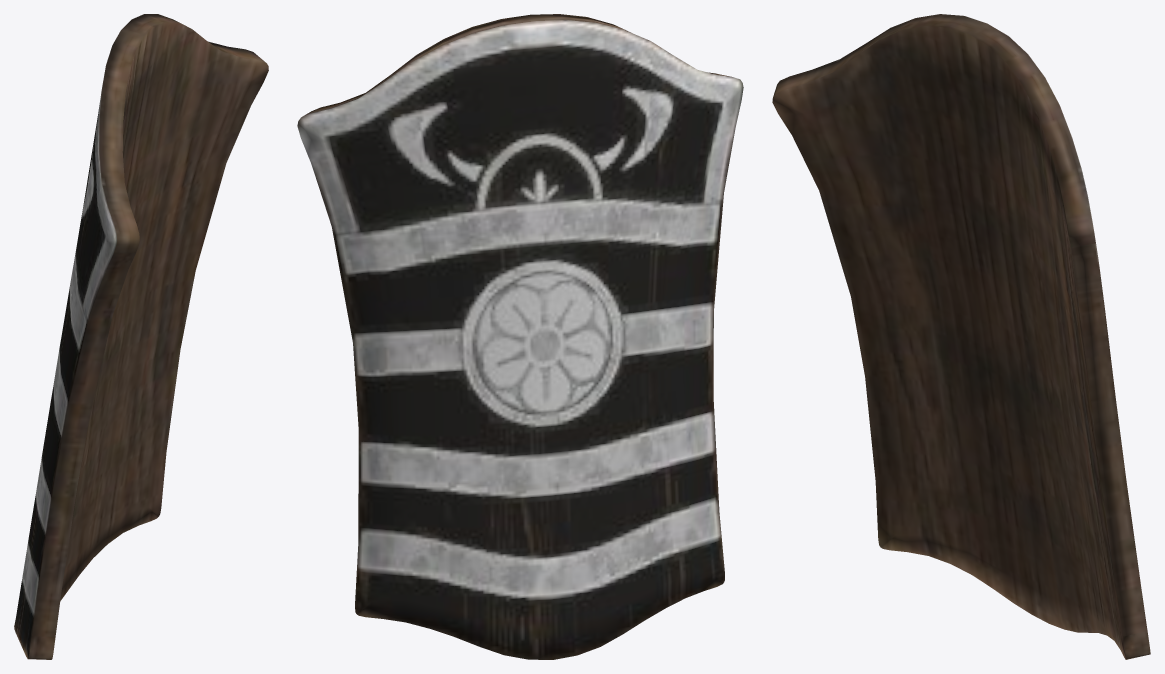
Rendered from shield-ironshields.glb.
The picture shows the model from 3 angles, left to right: view 1: azimuth 30°, elevation 25°; view 2: azimuth 150°, elevation 25°; view 3: azimuth 270°, elevation 25°; orthographic projection. The views are drawn at different scales.
Size of the model in its own units: 0.5045 by 0.8794 by 0.4849.
Materials: 1 (1 with a texture image).
